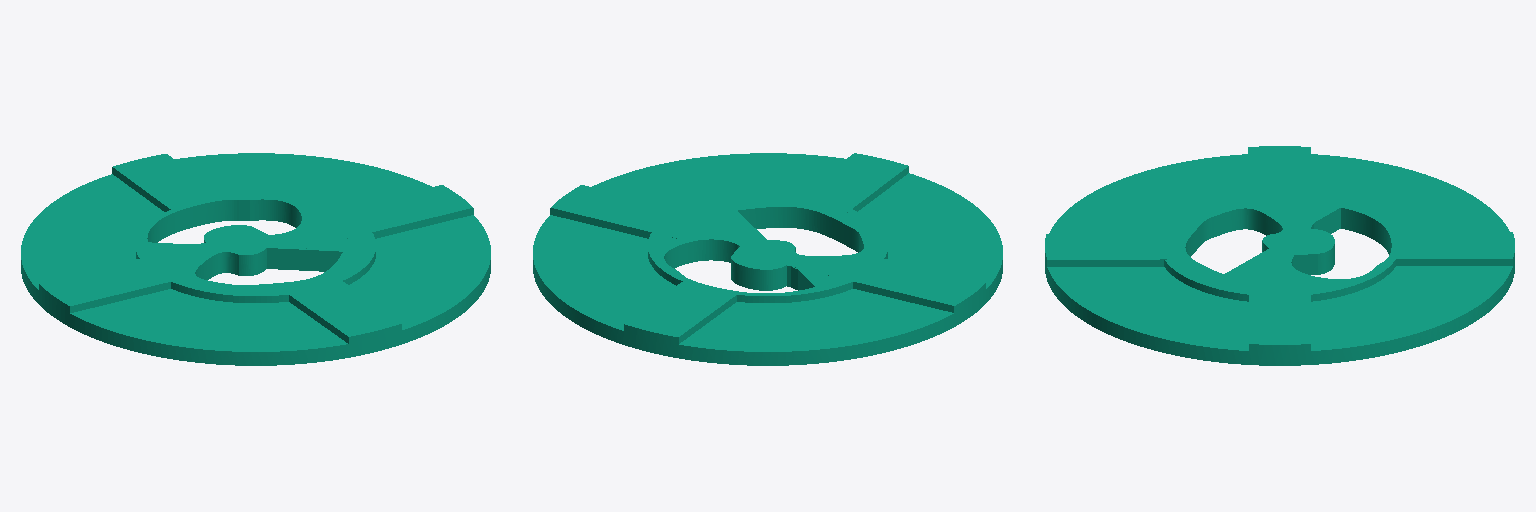
File: platform.obj
3 views of the same model, side by side, from view 1: azimuth 30°, elevation 25°; view 2: azimuth 150°, elevation 25°; view 3: azimuth 270°, elevation 25° (orthographic).
Visible parts, largest first — view 1: platform; view 2: platform; view 3: platform.
Boxes of the visible parts, box(x1,y1,x2,y2) form: platform: box(21, 153, 490, 365); platform: box(533, 153, 1002, 365); platform: box(1045, 146, 1514, 365).
Bounding box in the file's own units: 150 × 7.39 × 150.